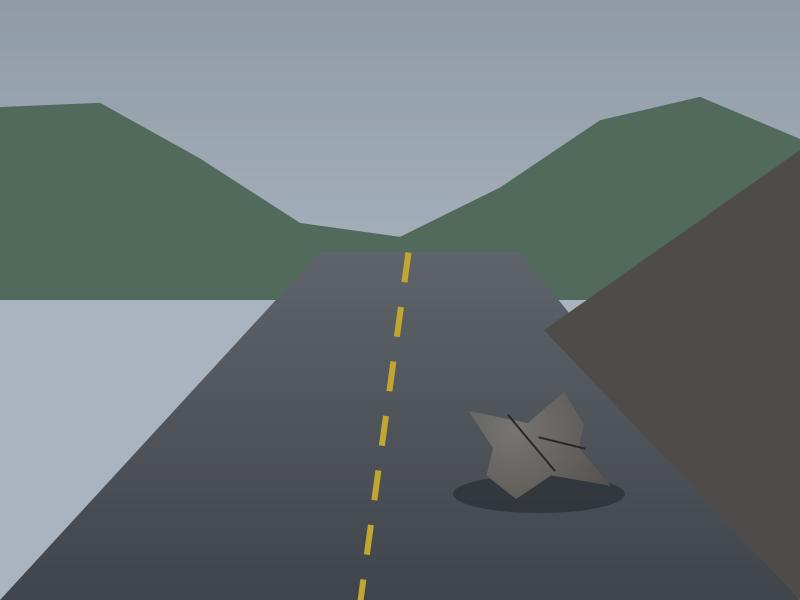ROAD_OBSTACLE: (463, 393, 615, 503)
